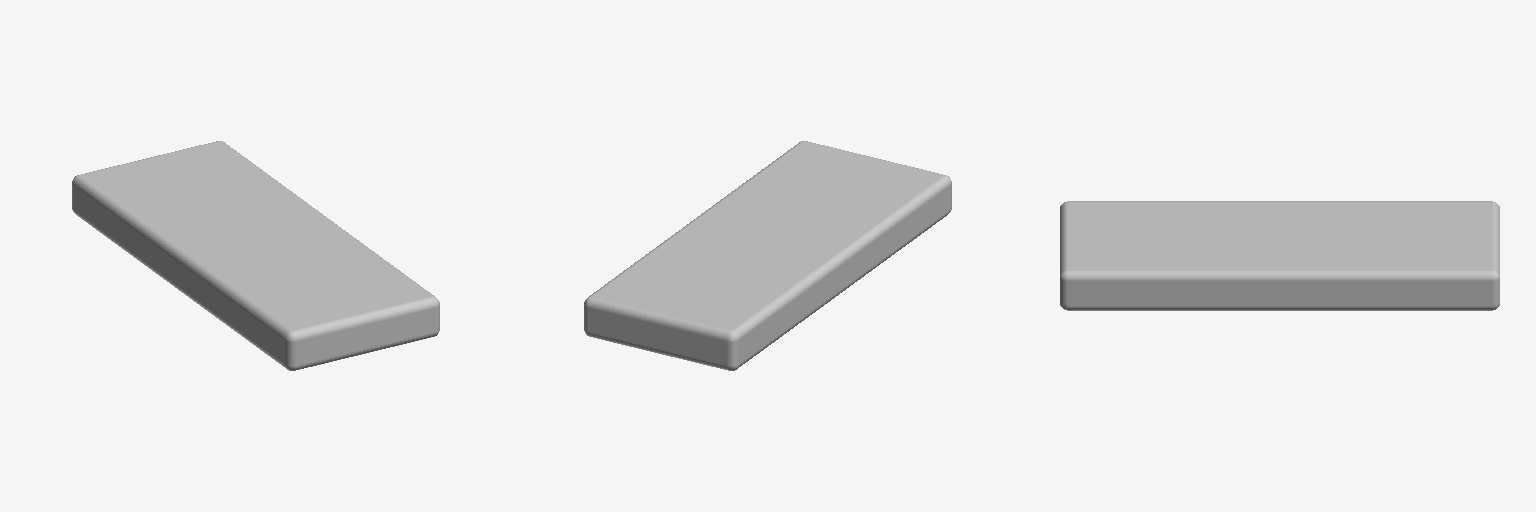
Rendered from MATRESS_4.obj.
The picture shows the model from 3 angles: view 1: azimuth 30°, elevation 25°; view 2: azimuth 150°, elevation 25°; view 3: azimuth 270°, elevation 25°; orthographic projection.
Parts seen in each view (by area): view 1: Cube.004_Cube.013; view 2: Cube.004_Cube.013; view 3: Cube.004_Cube.013.
Part boxes in pixels (bbox=[...]): Cube.004_Cube.013: bbox=[72, 141, 439, 370]; Cube.004_Cube.013: bbox=[584, 141, 951, 370]; Cube.004_Cube.013: bbox=[1060, 201, 1499, 310].
Bounding box in the file's own units: 0.8141 × 0.2017 × 2.02.